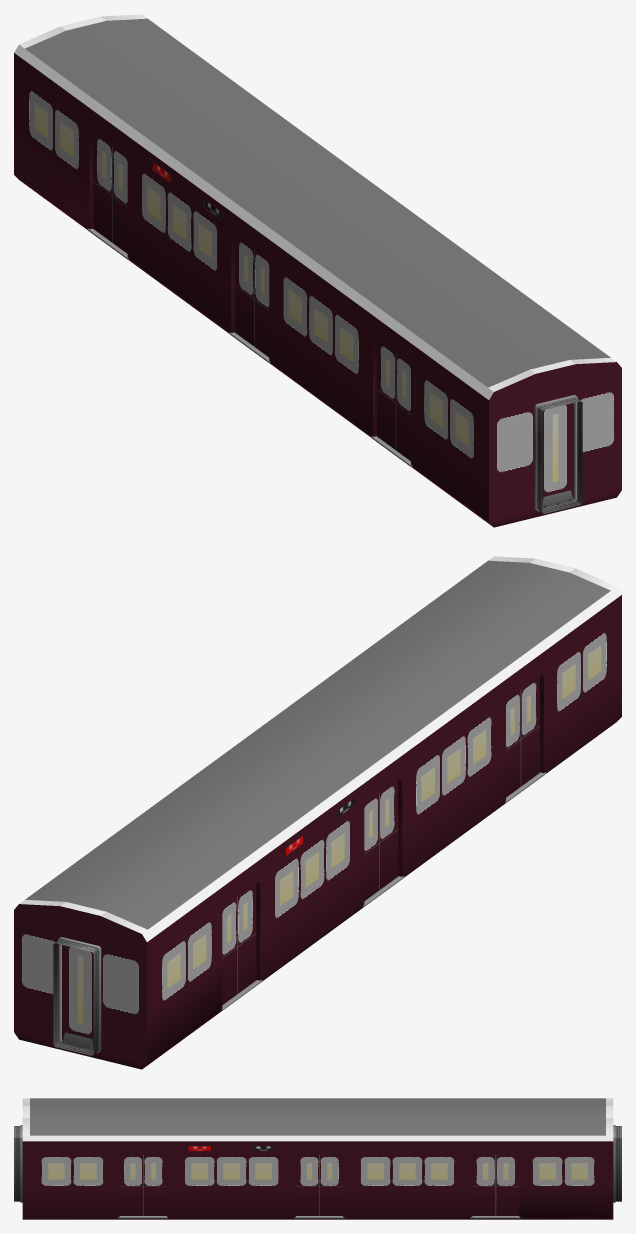
The picture shows the model from 3 angles, top to bottom: view 1: azimuth 30°, elevation 25°; view 2: azimuth 150°, elevation 25°; view 3: azimuth 270°, elevation 25°; orthographic projection. The views are drawn at different scales.
Visible parts, largest first — view 1: in_light; view 2: in_light; view 3: in_light.
Boxes of the visible parts, x1,y1,x2,y2 form: in_light: (14,14,621,527); in_light: (14,556,621,1069); in_light: (14,1098,621,1219).
Bounding box in the file's own units: 6.3 × 6.42 × 39.67.
Materials: 10 (9 with a texture image).
